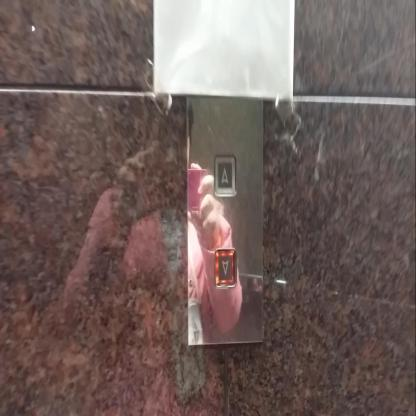down: (213, 247, 237, 289)
up: (213, 154, 237, 197)
